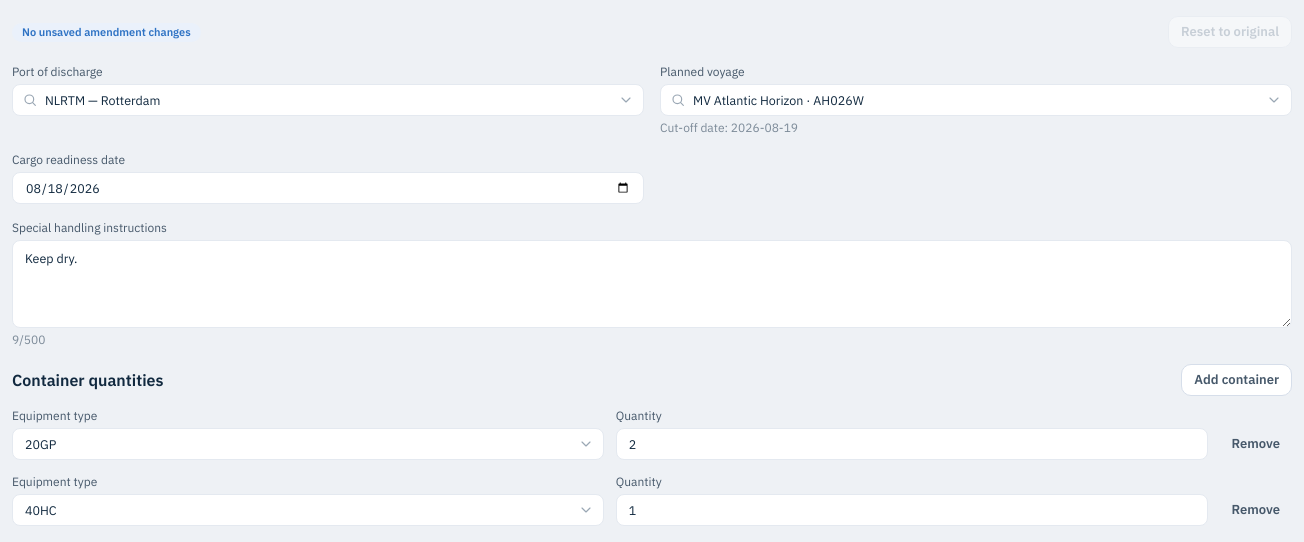
Test case: AmendmentForm › marks the draft dirty after a meaningful edit and resets
The width and height of the screenshot is (1304, 542).
Expected: the text "No unsaved amendment changes" is shown, [12,22,201,42]
Replace the text in the text box labelled "Special handling instructions" with "Keep dry and upright." at (652,284), box [12,240,1292,328]
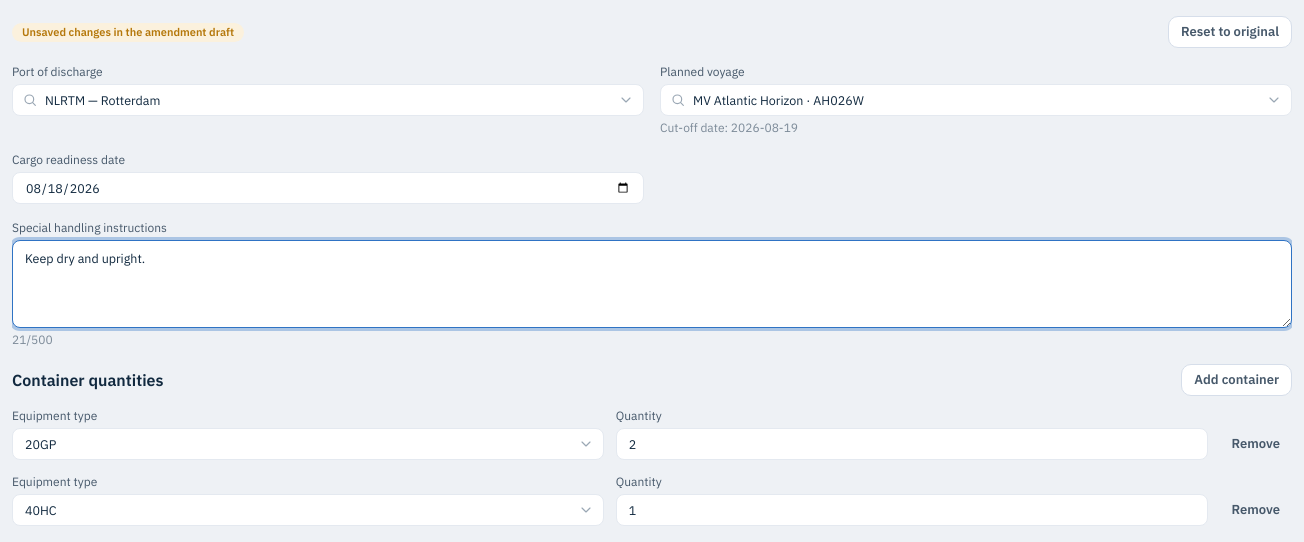
Result: the text "Unsaved changes in the amendment draft" is shown at [12,22,244,42]
Click the button "Reset to original".
click(1230, 32)  # box [1168,16,1292,48]
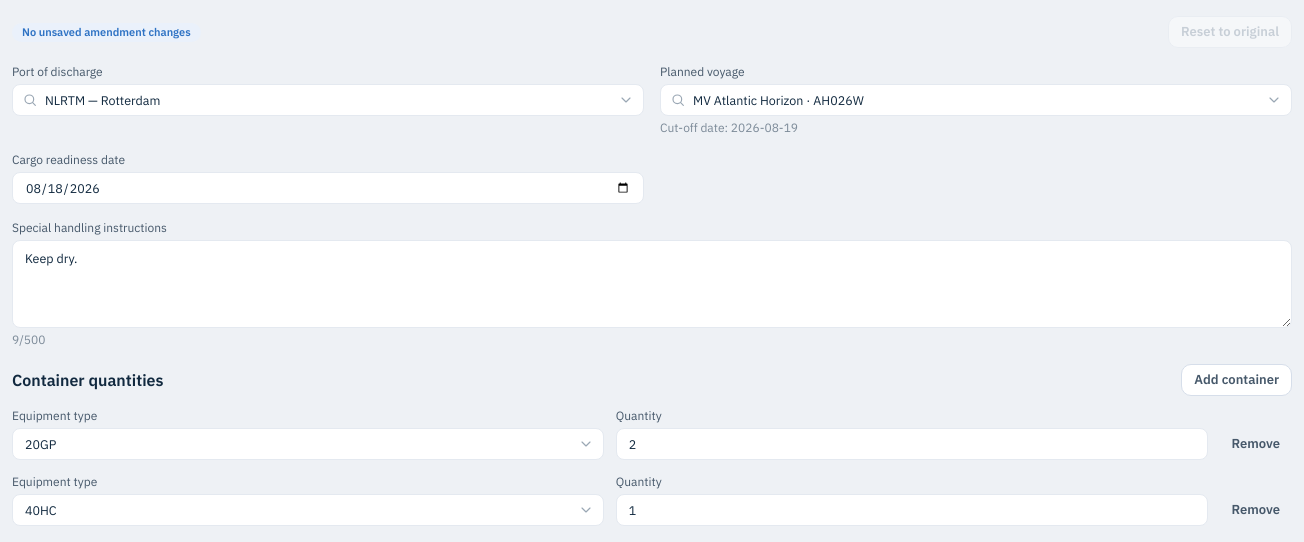
Result: the text "No unsaved amendment changes" is shown at [12,22,201,42]
Result: the text box labelled "Special handling instructions" holds "Keep dry." at [12,240,1292,328]
